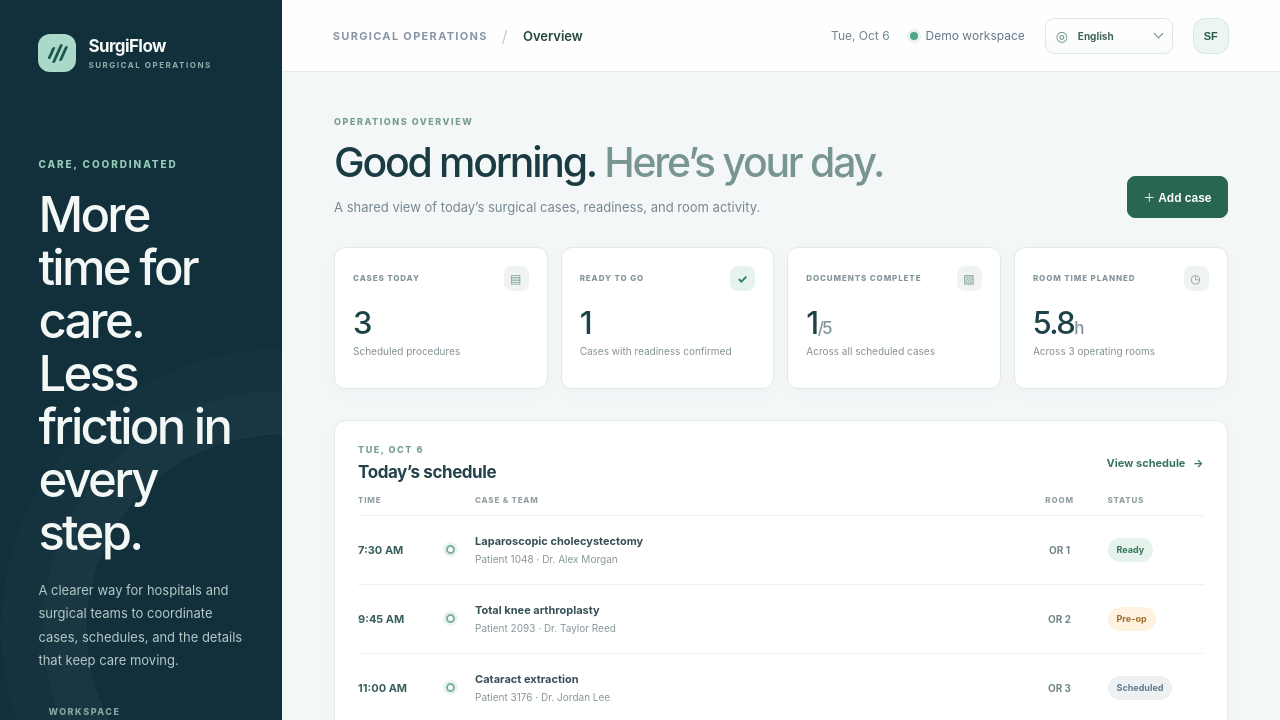
Scenario: HomePage › blocks a case that overlaps an existing booking in the same room
The image size is (1280, 720).
Click the button "＋ Add case" at (1177, 197), box [1127,176,1228,218]
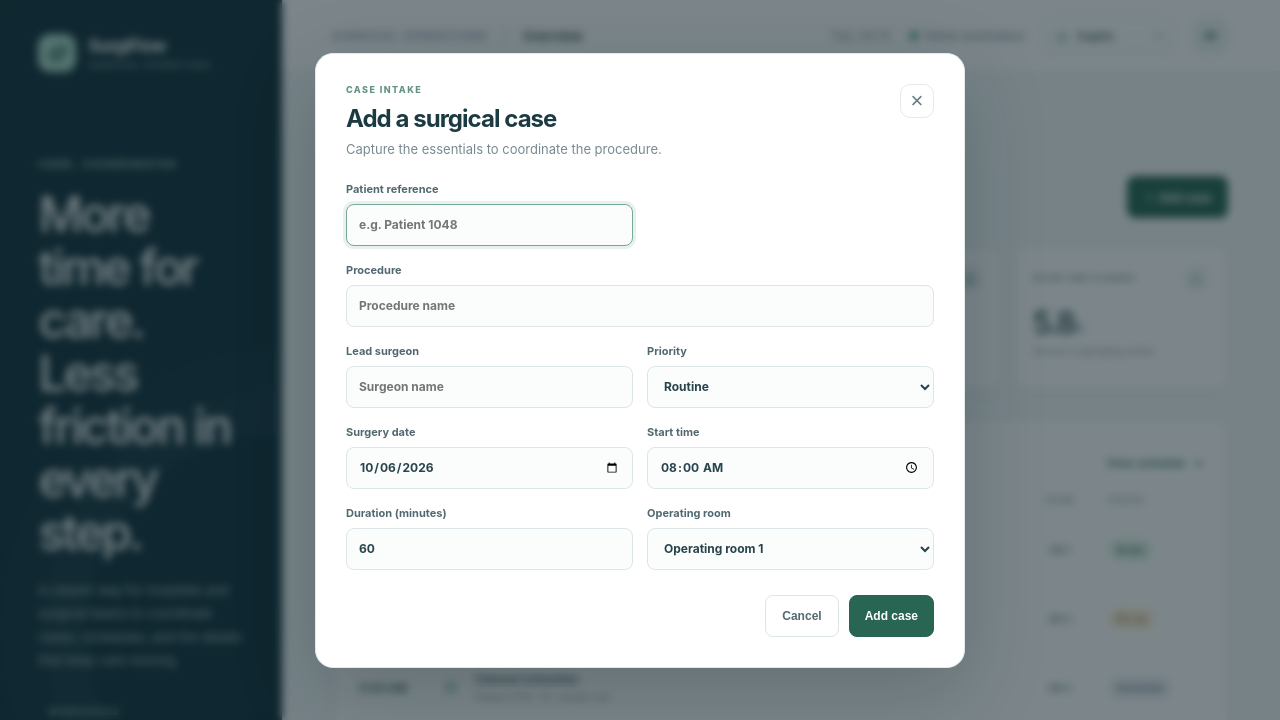
Type "Patient 6402" into the field labelled "Patient reference" at (490, 224), box [346,204,633,246]
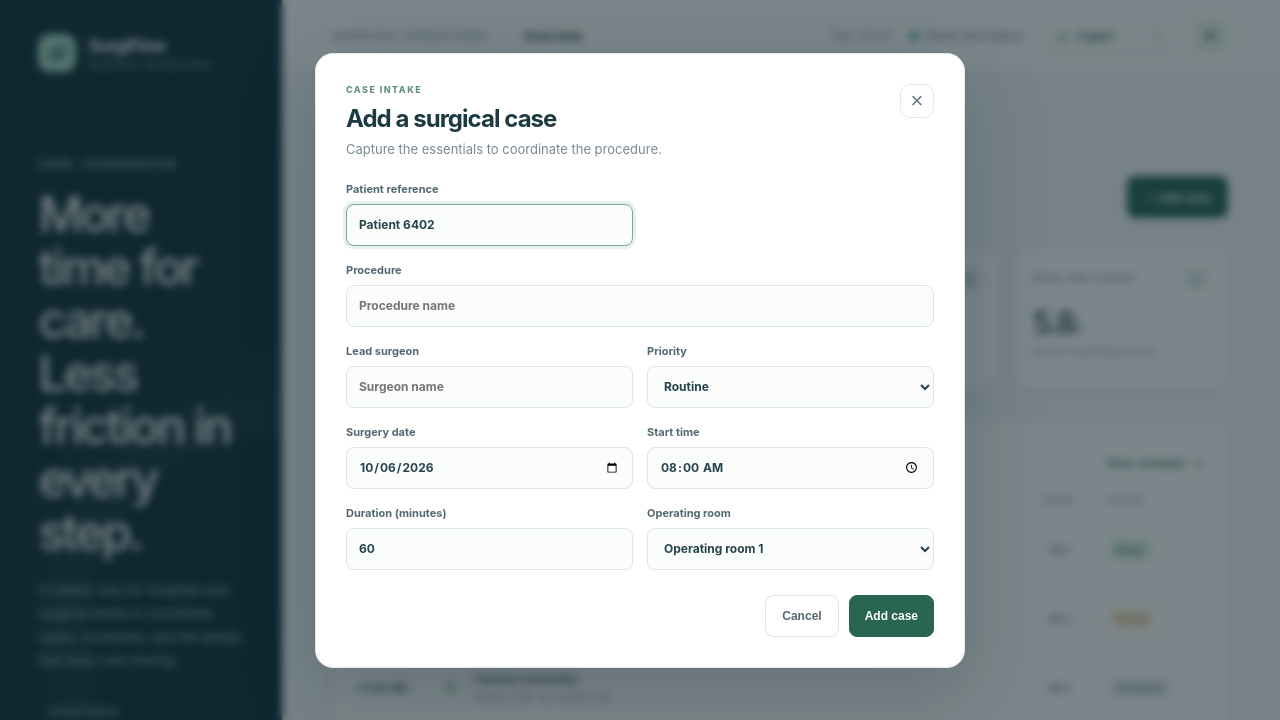
Type "Appendectomy" into the field labelled "Procedure" at (640, 306), box [346,284,934,326]
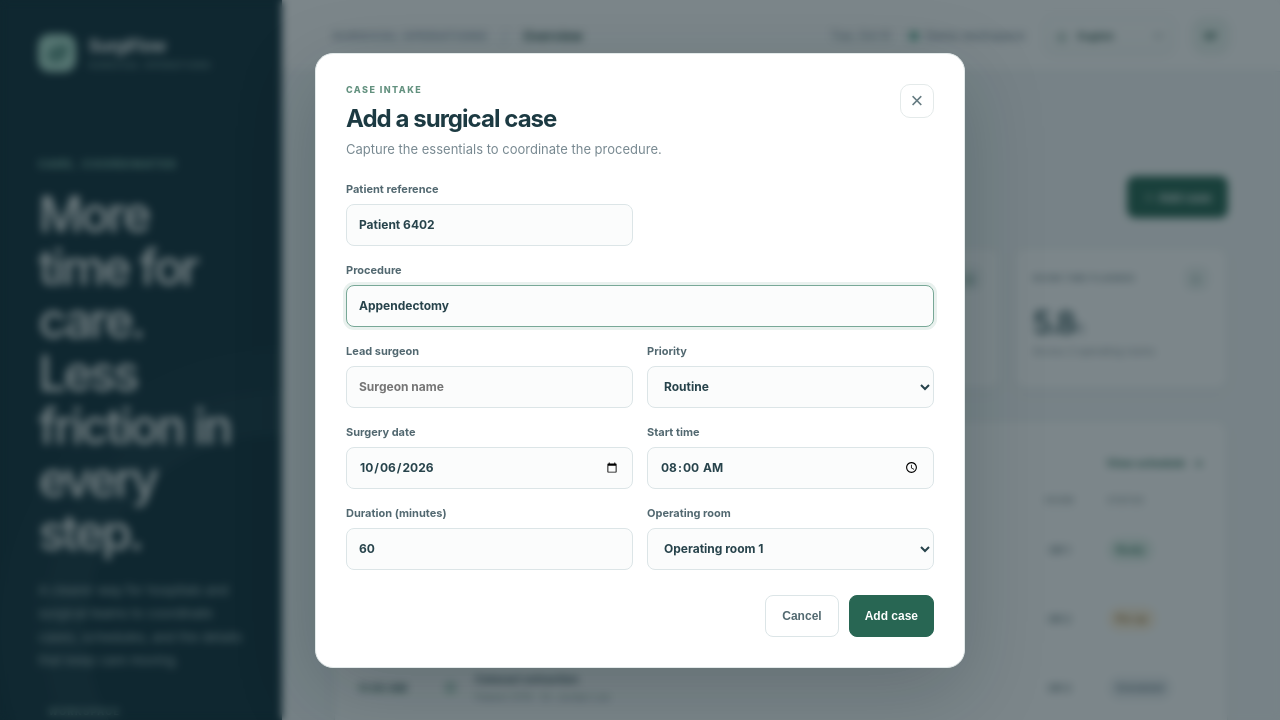
Type "Dr. Casey Stone" into the field labelled "Lead surgeon" at (490, 386), box [346,366,633,408]
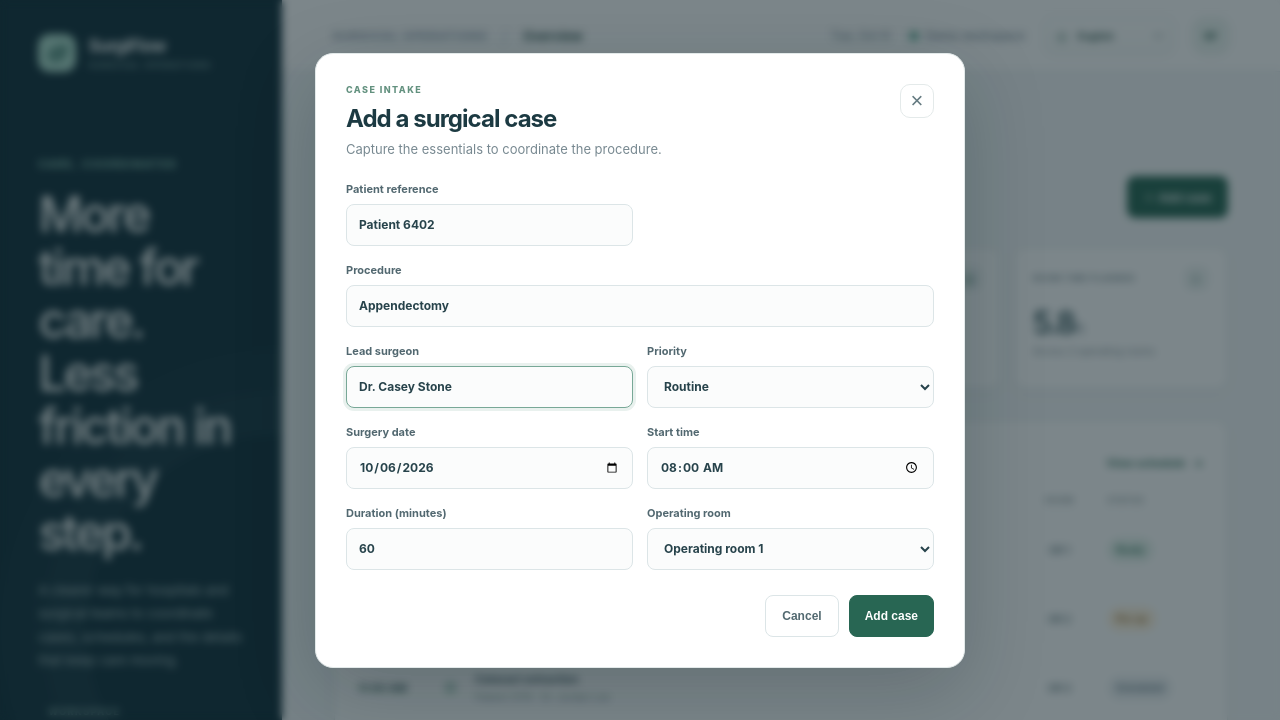
Click the button "Add case" at (891, 616), box [849,594,934,636]
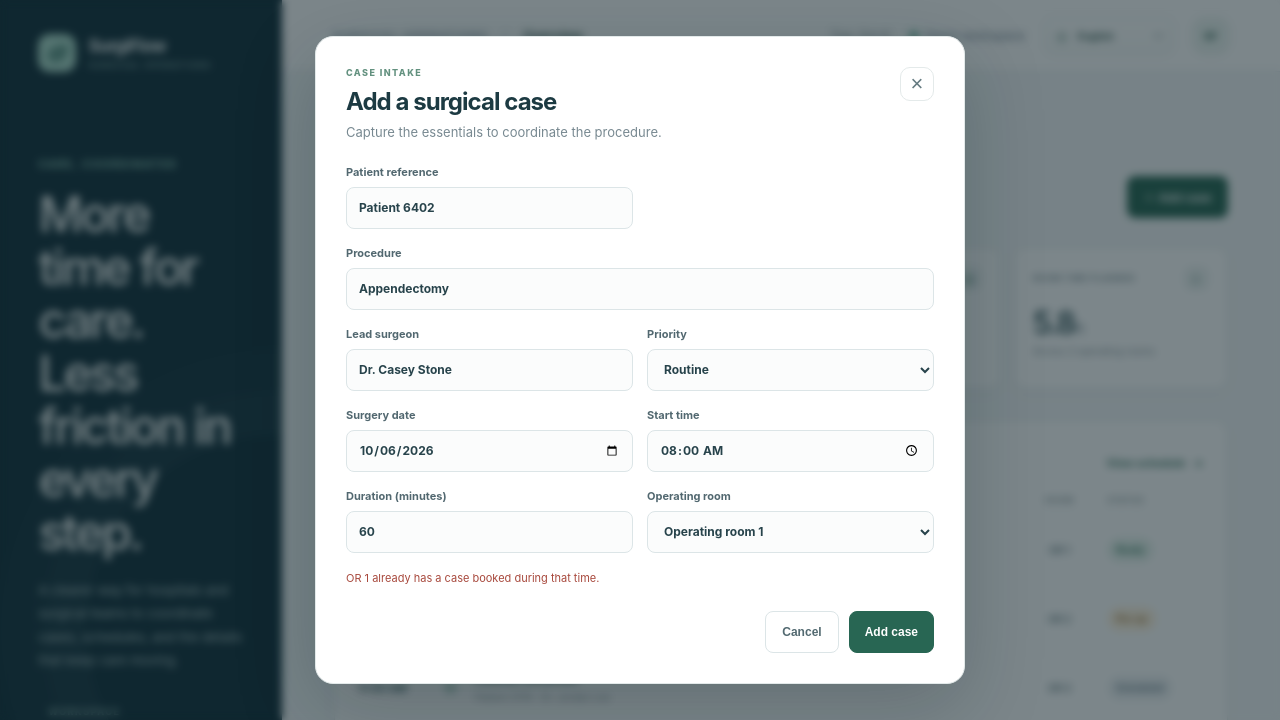
expect the dialog is shown: met, box [315,36,965,684]
expect the message shows "OR 1 already has a case booked": met, box [346,571,599,585]
